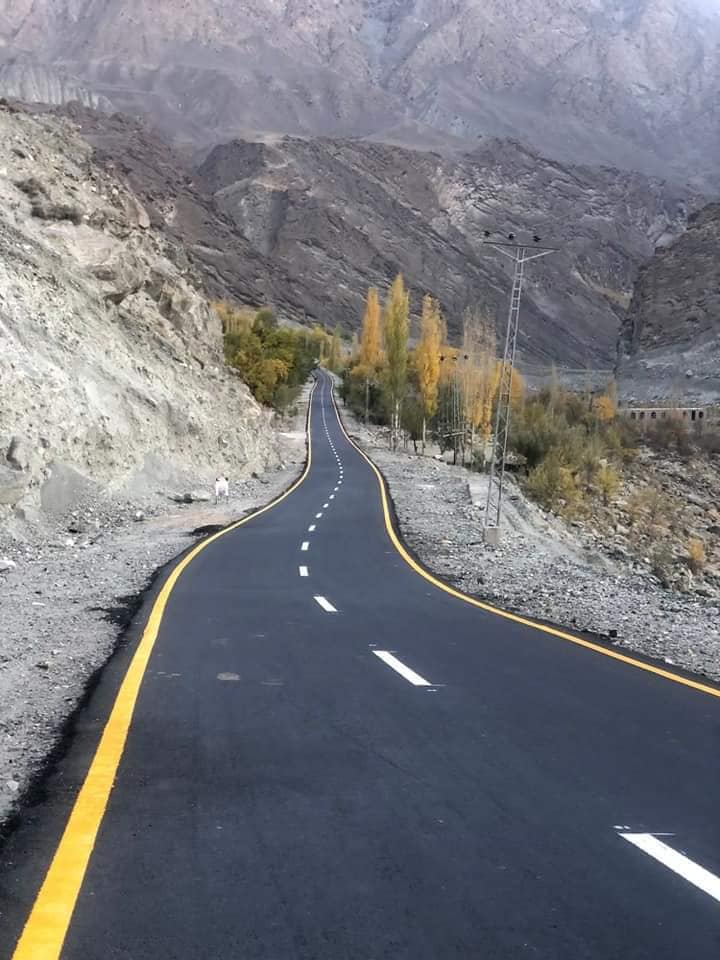straightRoad: (195, 510, 567, 960)
